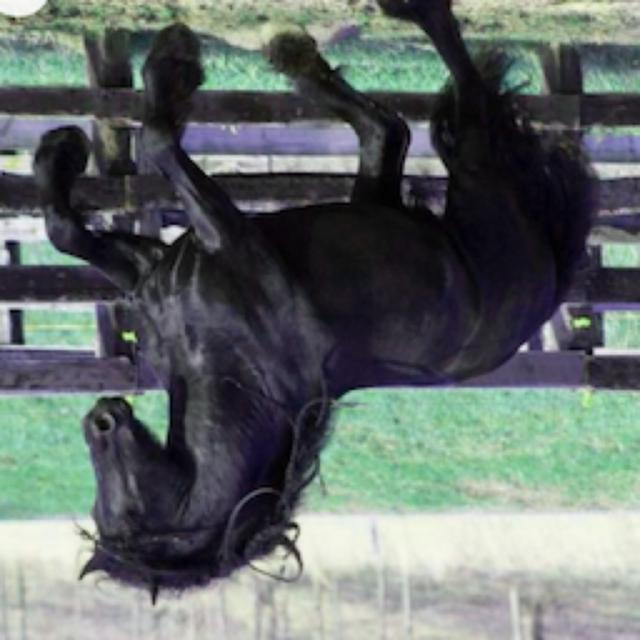Horse: (27, 2, 605, 608)
